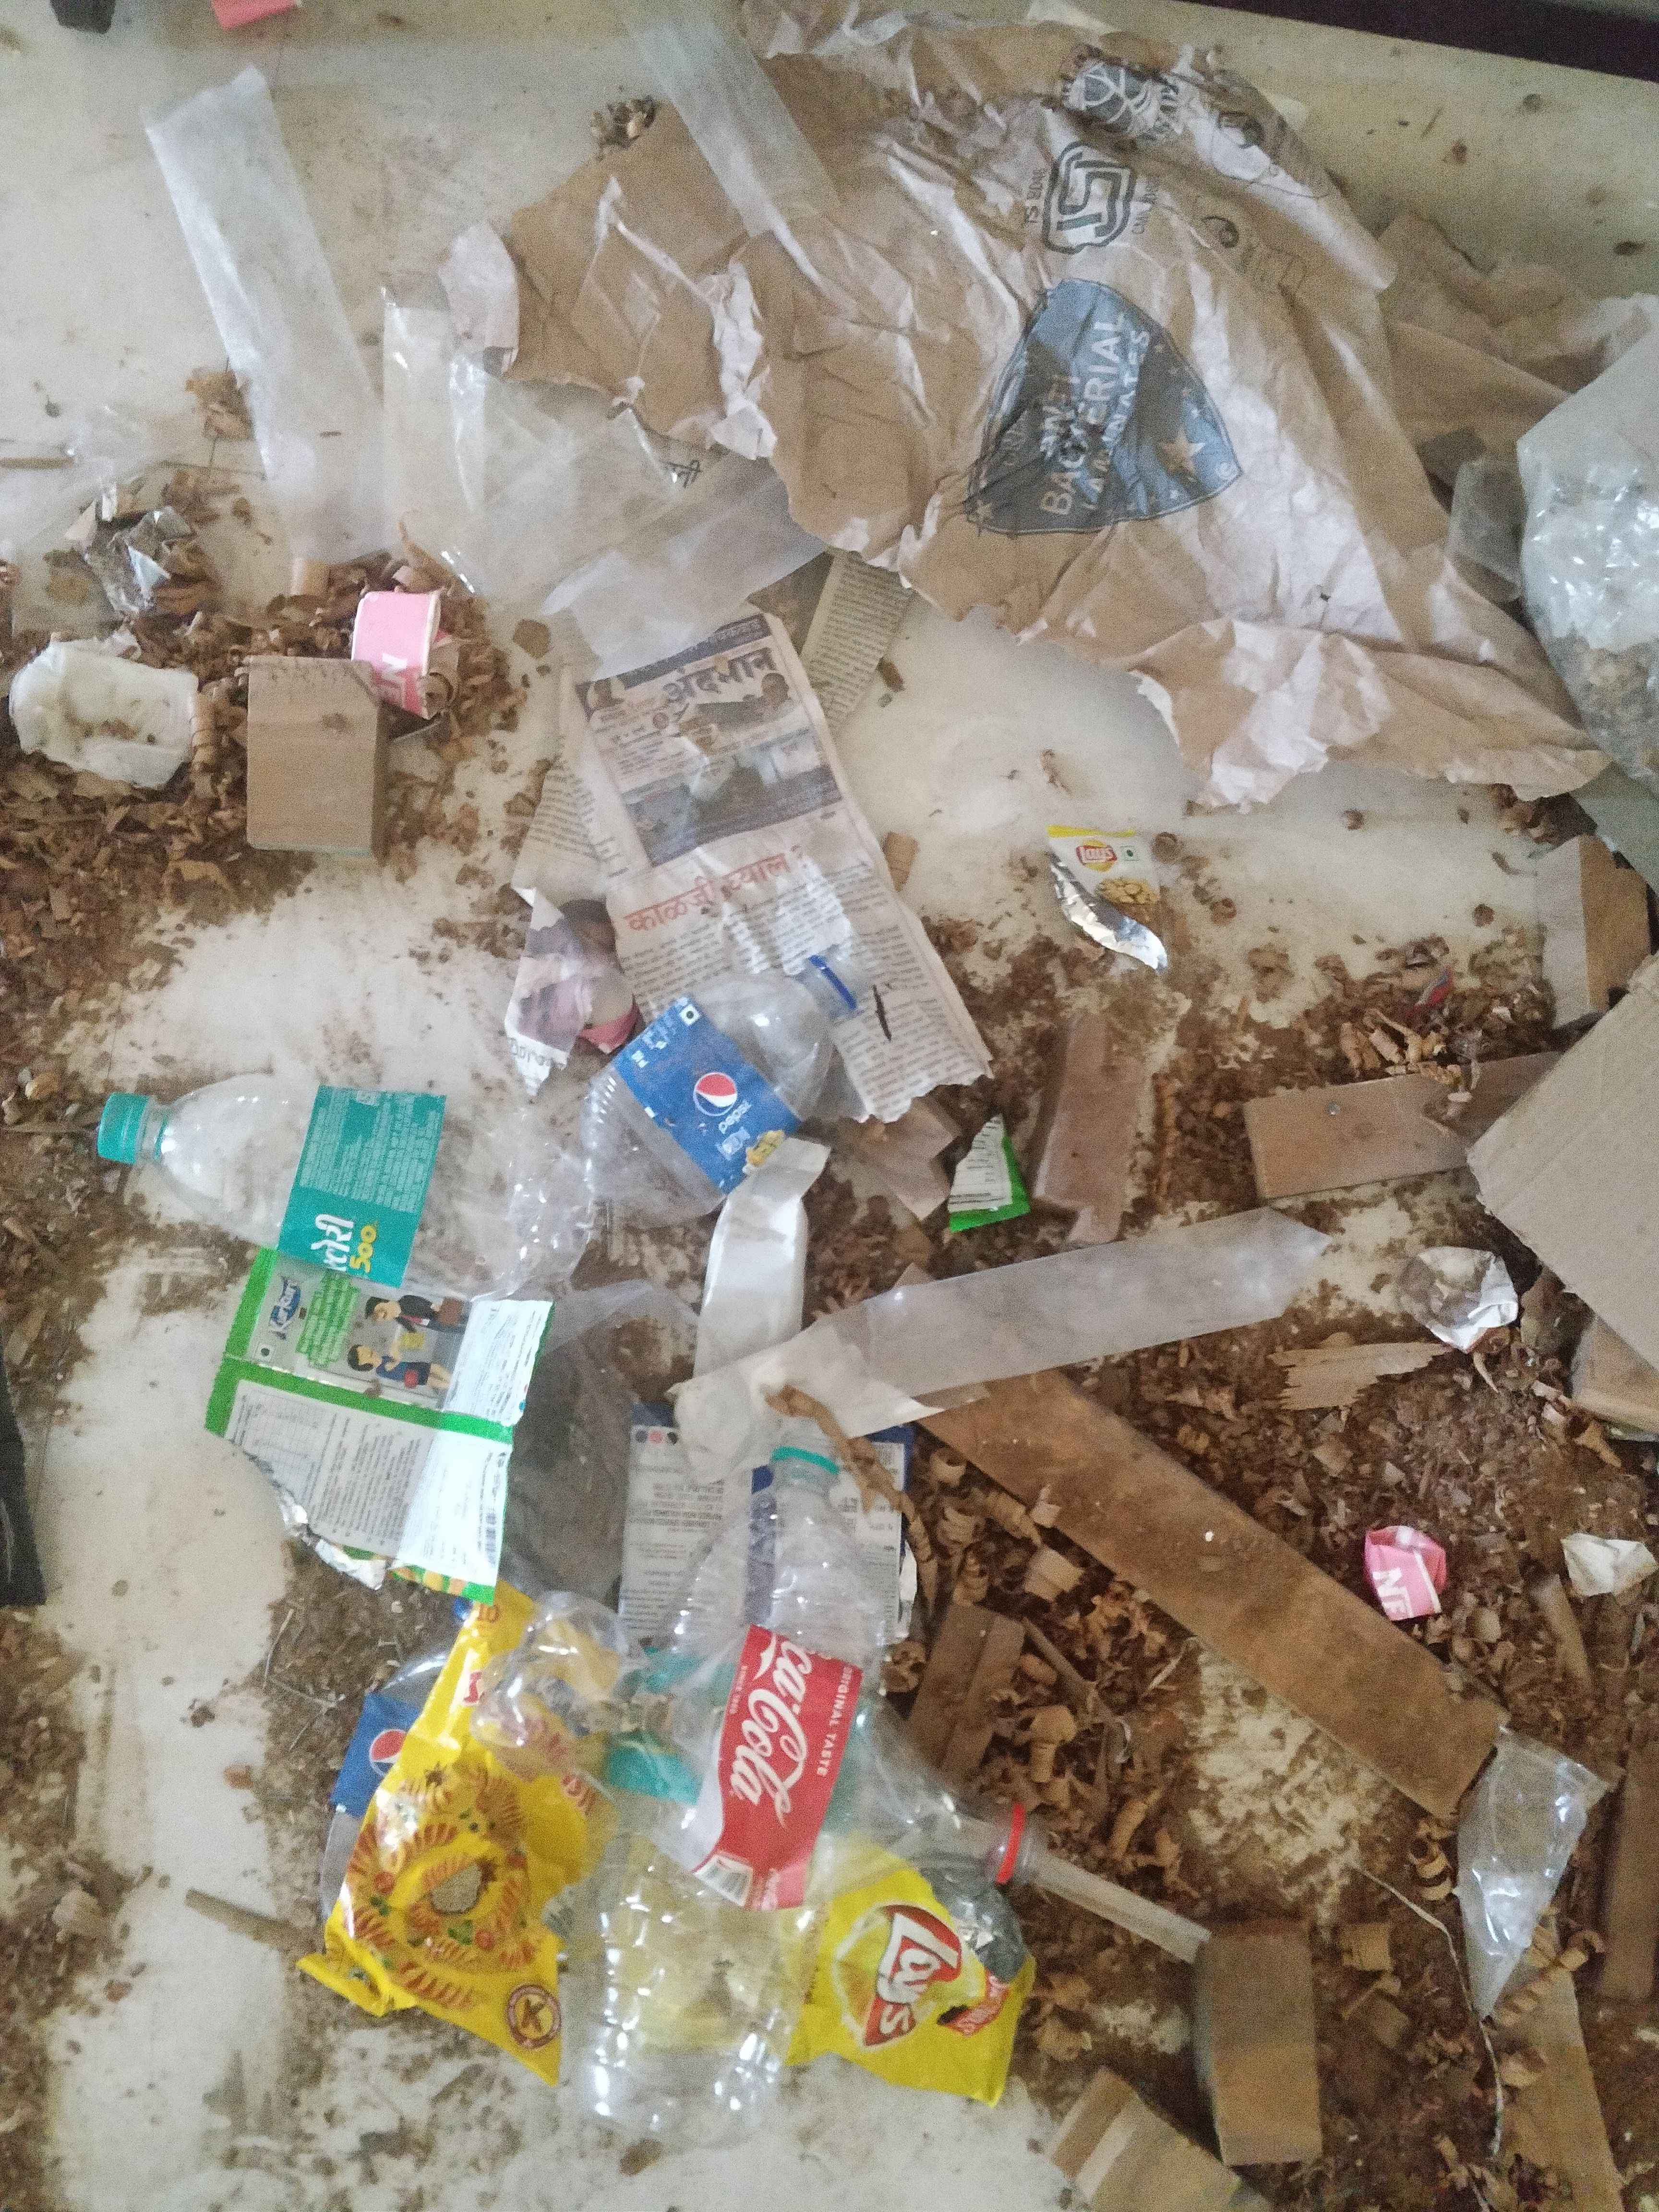Bisleri: (319, 1104, 401, 1292)
Coca-Cola: (737, 1635, 833, 1851)
Lays: (823, 1886, 1032, 2050)
kurkure: (267, 1264, 319, 1348)
pepsi: (659, 1035, 779, 1169), (359, 1714, 415, 1787)
